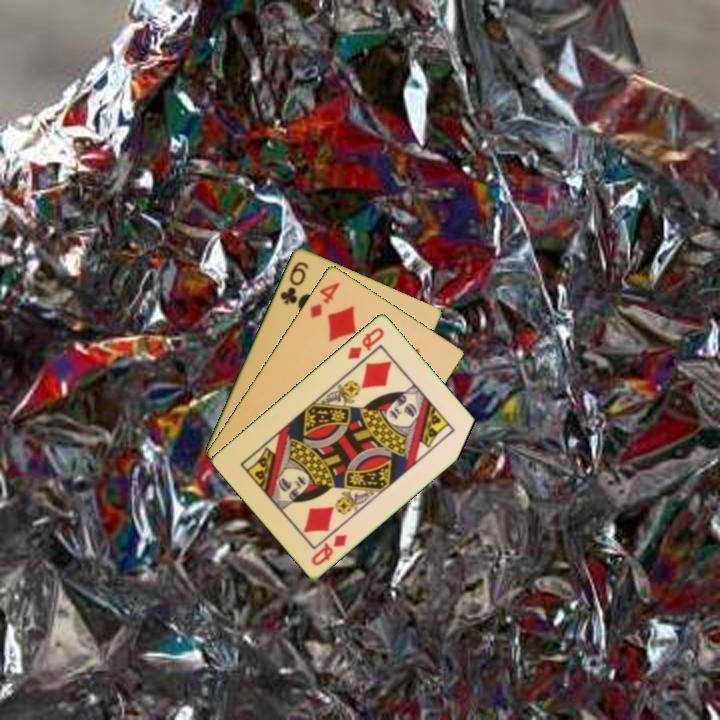4d: (306, 278, 343, 321)
6c: (276, 258, 311, 307)
Qd: (344, 323, 387, 362), (308, 530, 350, 569)
